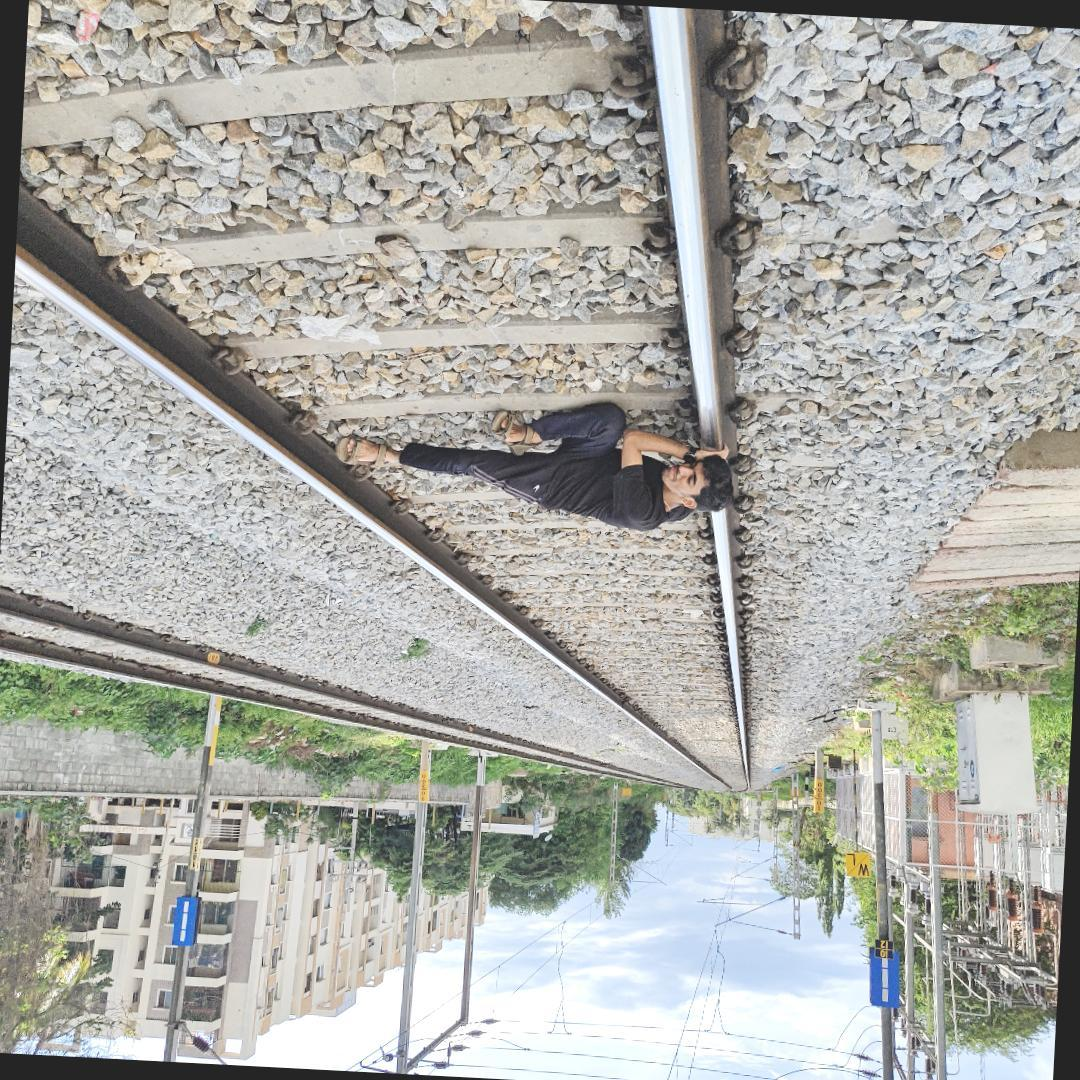sleeping: (327, 380, 750, 542)
